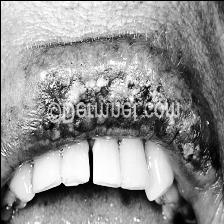Potentially Malignant Skin Tumors: (184, 136, 203, 168), (120, 79, 144, 103), (65, 78, 84, 102)
